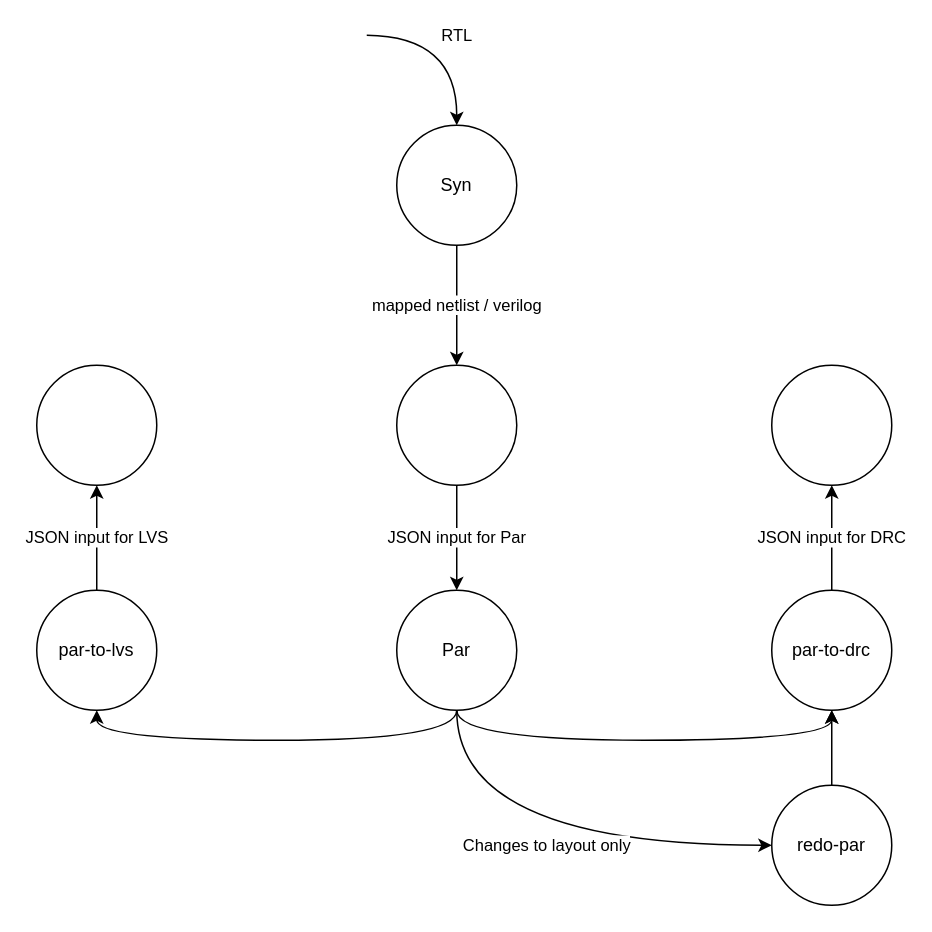
This 932x932 diagram has some shape labels left out. The shapes that lost their labels are listed below. From the top down, each one's box as (x1, y1, x2, y2) in pixels, then its label:
(35, 364, 157, 485): LVS
(395, 364, 517, 485): Syn-to-par
(770, 364, 892, 485): drc
